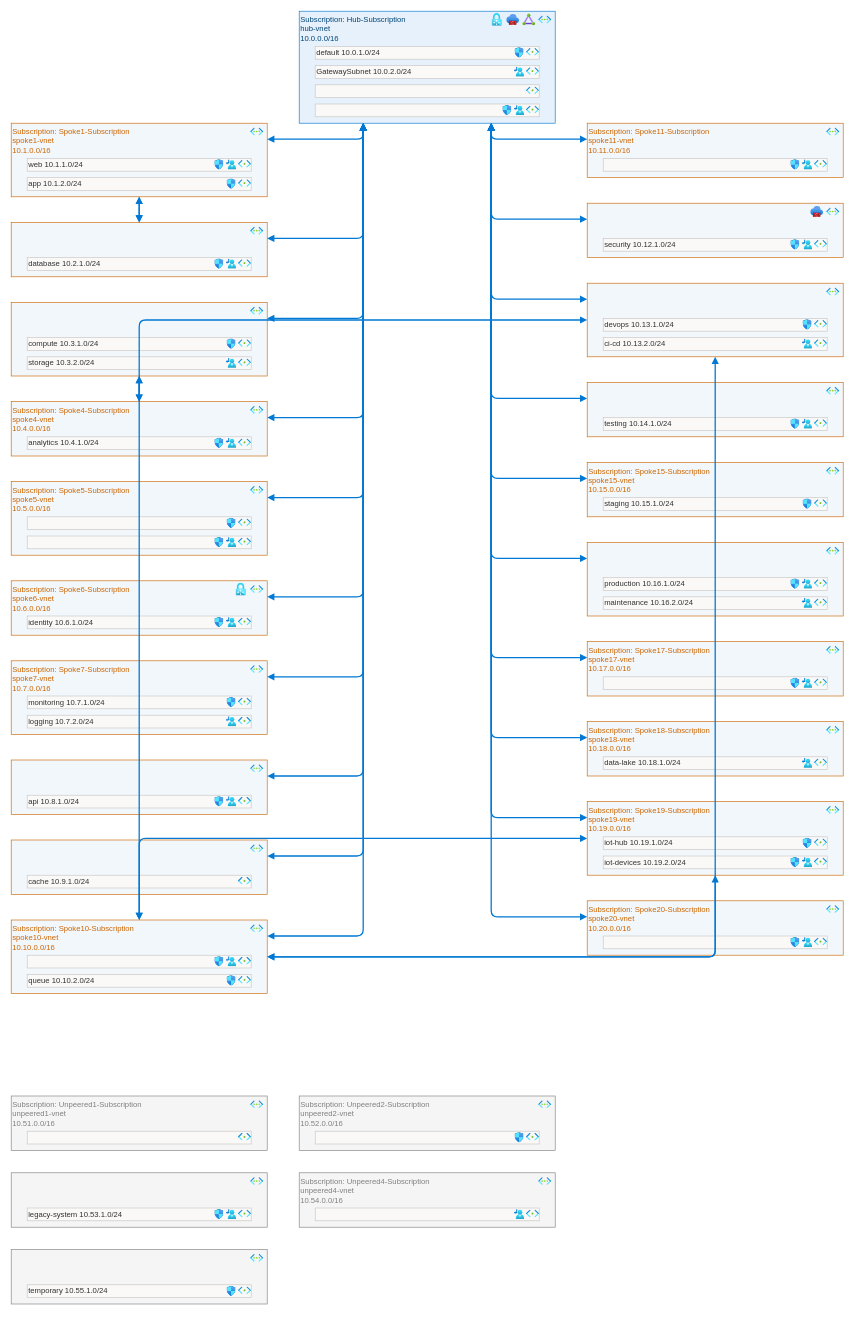
Image size: 854x1328. Some labels were removed from this diagram. The box of each missing label's shape, as (x1, y1, x2, y2) in pixels:
AzureFirewallSubnet 10.0.3.0/24: (315, 84, 539, 98)
backend 10.5.2.0/24: (27, 535, 251, 549)
backup 10.11.1.0/24: (603, 158, 827, 171)
edge-computing 10.20.1.0/24: (603, 935, 827, 949)
experimental 10.54.1.0/24: (315, 1207, 539, 1221)
frontend 10.5.1.0/24: (27, 516, 251, 530)
isolated-dev 10.51.1.0/24: (27, 1131, 251, 1144)
management 10.0.4.0/24: (315, 103, 539, 117)
messaging 10.10.1.0/24: (27, 955, 251, 968)
ml-training 10.17.1.0/24: (603, 676, 827, 690)
sandbox 10.52.1.0/24: (315, 1131, 539, 1144)
Subscription: Spoke12-Subscription spoke12-vnet 10.12.0.0/16: (587, 203, 843, 258)
Subscription: Spoke13-Subscription spoke13-vnet 10.13.0.0/16: (587, 283, 843, 357)
Subscription: Spoke14-Subscription spoke14-vnet 10.14.0.0/16: (587, 382, 843, 437)
Subscription: Spoke16-Subscription spoke16-vnet 10.16.0.0/16: (587, 542, 843, 616)
Subscription: Spoke2-Subscription spoke2-vnet 10.2.0.0/16: (11, 222, 267, 277)
Subscription: Spoke3-Subscription spoke3-vnet 10.3.0.0/16: (11, 302, 267, 376)
Subscription: Spoke8-Subscription spoke8-vnet 10.8.0.0/16: (11, 759, 267, 814)
Subscription: Spoke9-Subscription spoke9-vnet 10.9.0.0/16: (11, 839, 267, 894)
Subscription: Unpeered3-Subscription unpeered3-vnet 10.53.0.0/16: (11, 1172, 267, 1227)
Subscription: Unpeered5-Subscription unpeered5-vnet 10.55.0.0/16: (11, 1249, 267, 1304)
